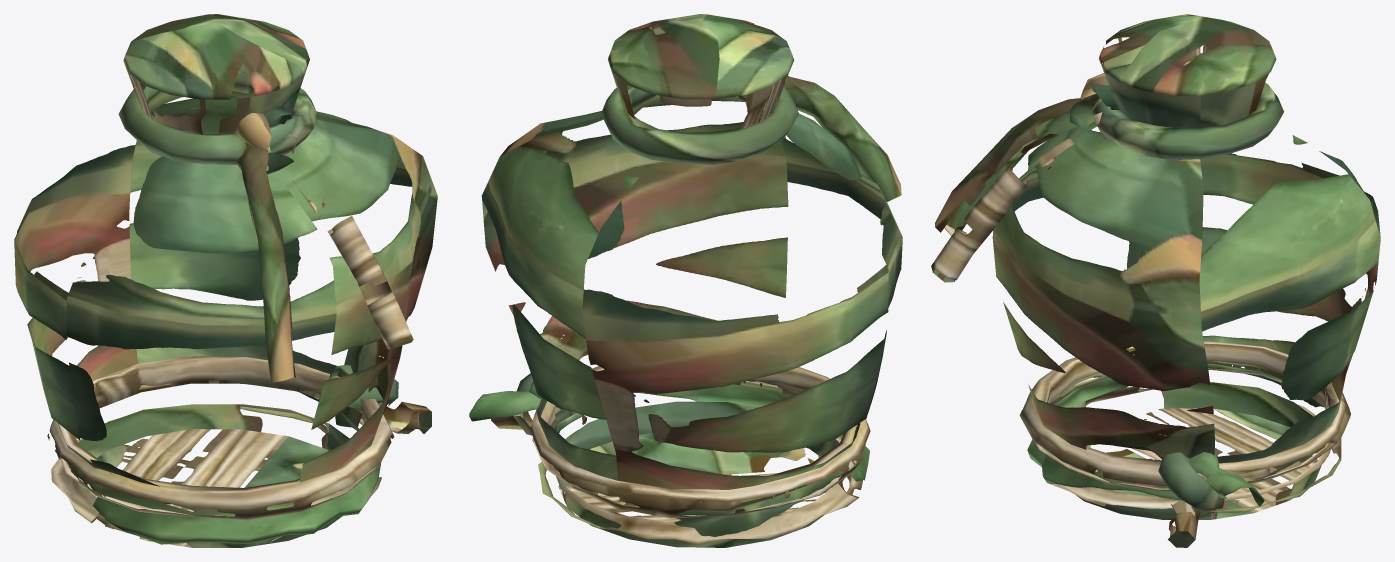
The picture shows the model from 3 angles, left to right: view 1: azimuth 30°, elevation 25°; view 2: azimuth 150°, elevation 25°; view 3: azimuth 270°, elevation 25°; orthographic projection. The views are drawn at different scales.
Parts seen in each view (by area): view 1: SM_Wrapped_Leaf_Package_01_LOD0; view 2: SM_Wrapped_Leaf_Package_01_LOD0; view 3: SM_Wrapped_Leaf_Package_01_LOD0.
Boxes of the visible parts, x1,y1,x2,y2 form: SM_Wrapped_Leaf_Package_01_LOD0: (14,14,437,547); SM_Wrapped_Leaf_Package_01_LOD0: (469,14,902,547); SM_Wrapped_Leaf_Package_01_LOD0: (931,14,1380,547).
Bounding box in the file's own units: 0.2624 × 0.3056 × 0.2817.
